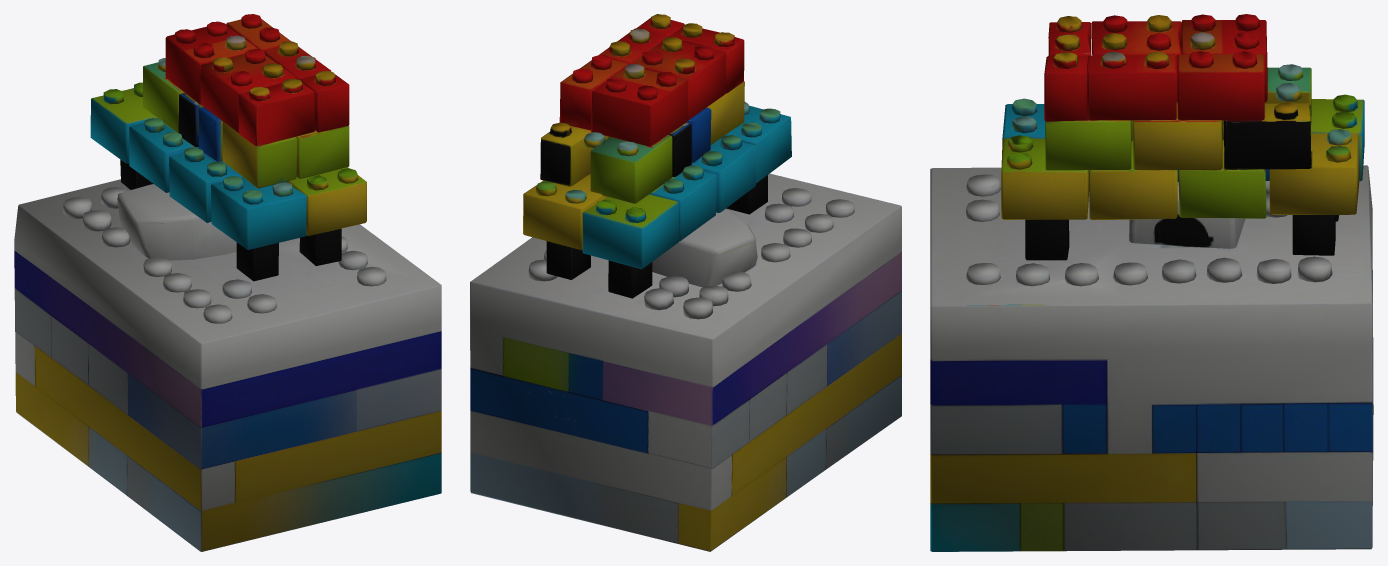
File: object_23_asset_ced65e2f.glb
3 views of the same model, side by side, from view 1: azimuth 30°, elevation 25°; view 2: azimuth 150°, elevation 25°; view 3: azimuth 270°, elevation 25° (orthographic). The views are drawn at different scales.
Parts seen in each view (by area): view 1: tripo_node_f1225d70-3c70-41e1-bc8f-f159d0bb685a; view 2: tripo_node_f1225d70-3c70-41e1-bc8f-f159d0bb685a; view 3: tripo_node_f1225d70-3c70-41e1-bc8f-f159d0bb685a.
Part boxes in pixels (box(x1,y1,x2,y2)): tripo_node_f1225d70-3c70-41e1-bc8f-f159d0bb685a: box(14, 14, 441, 551); tripo_node_f1225d70-3c70-41e1-bc8f-f159d0bb685a: box(470, 14, 901, 551); tripo_node_f1225d70-3c70-41e1-bc8f-f159d0bb685a: box(930, 14, 1373, 551).
Bounding box in the file's own units: 0.6426 × 0.998 × 0.8652.
Materials: 1 (1 with a texture image).
